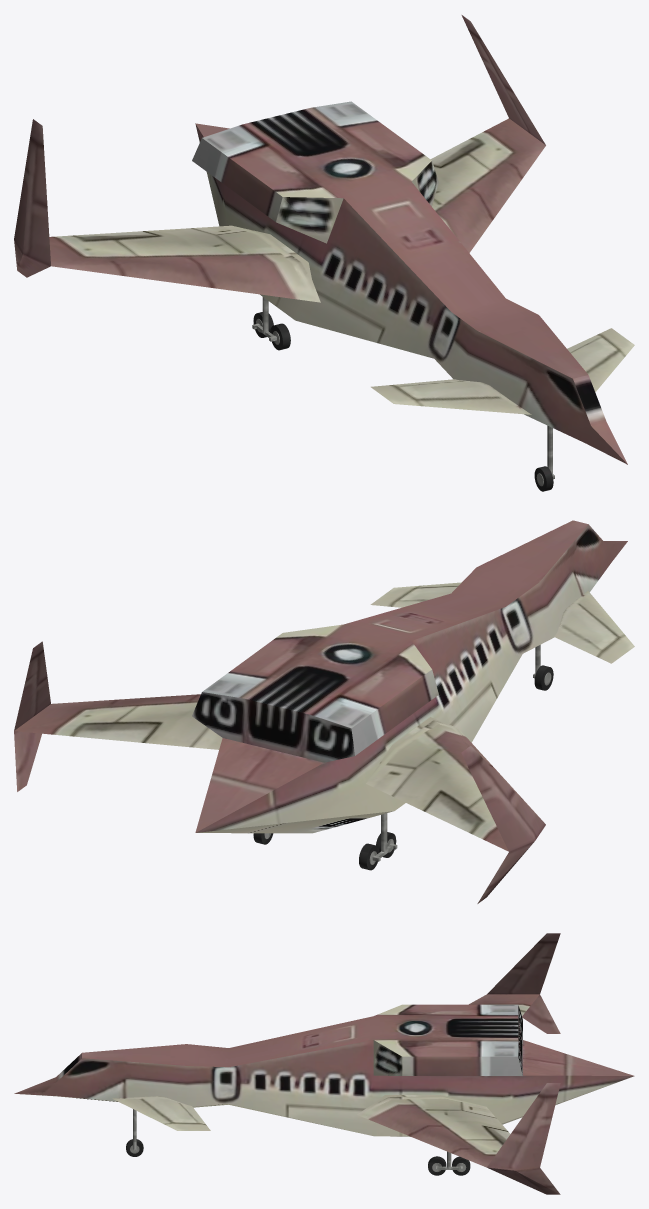
File: privatejet_cad.glb
3 views of the same model, one above another, from view 1: azimuth 30°, elevation 25°; view 2: azimuth 150°, elevation 25°; view 3: azimuth 270°, elevation 25° (orthographic). The views are drawn at different scales.
Parts seen in each view (by area): view 1: PrivateJet; view 2: PrivateJet; view 3: PrivateJet.
Boxes of the visible parts, bbox=[...] form: PrivateJet: bbox=[14, 15, 634, 491]; PrivateJet: bbox=[14, 520, 634, 903]; PrivateJet: bbox=[14, 933, 634, 1194].
Bounding box in the file's own units: 19.43 × 7.47 × 28.46.
Materials: 1 (1 with a texture image).
